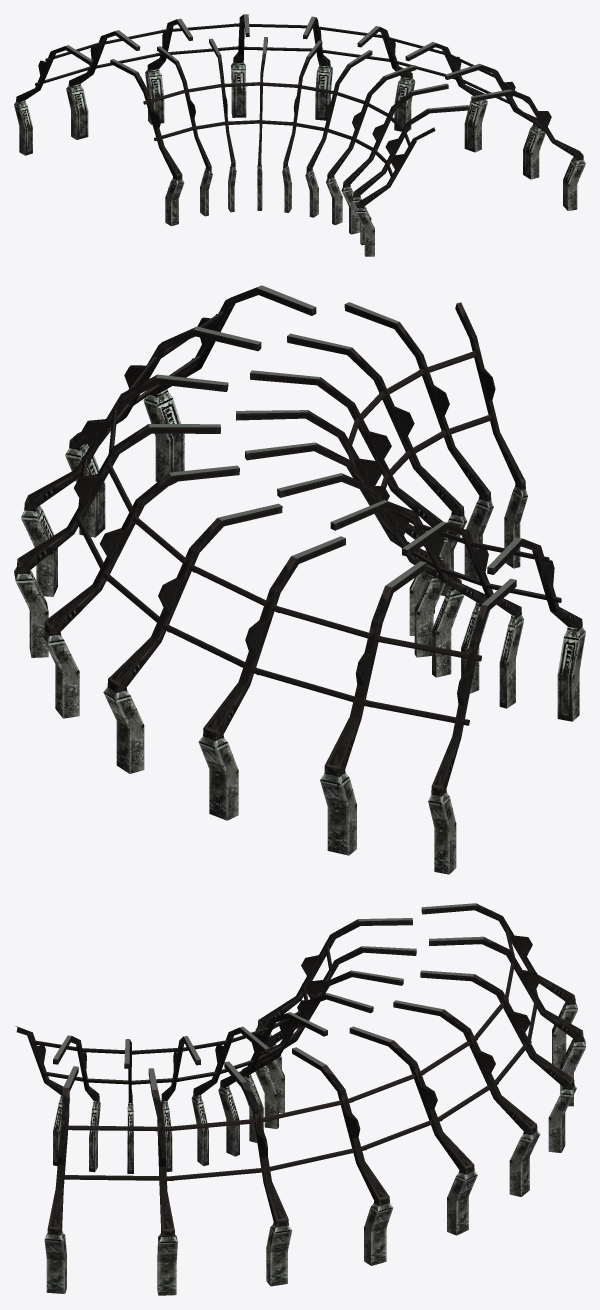
Rendered from Grille1.fbx.
3 renders of one model, top to bottom at view 1: azimuth 30°, elevation 25°; view 2: azimuth 150°, elevation 25°; view 3: azimuth 270°, elevation 25°, orthographic. The views are drawn at different scales.
Parts seen in each view (by area): view 1: polySurface148; view 2: polySurface148; view 3: polySurface148.
Part boxes in pixels (x1,y1,x2,y2): polySurface148: (14, 14, 585, 256); polySurface148: (14, 285, 585, 874); polySurface148: (15, 903, 585, 1295).
Size of the model in its own units: 41.42 by 13.61 by 42.08.
